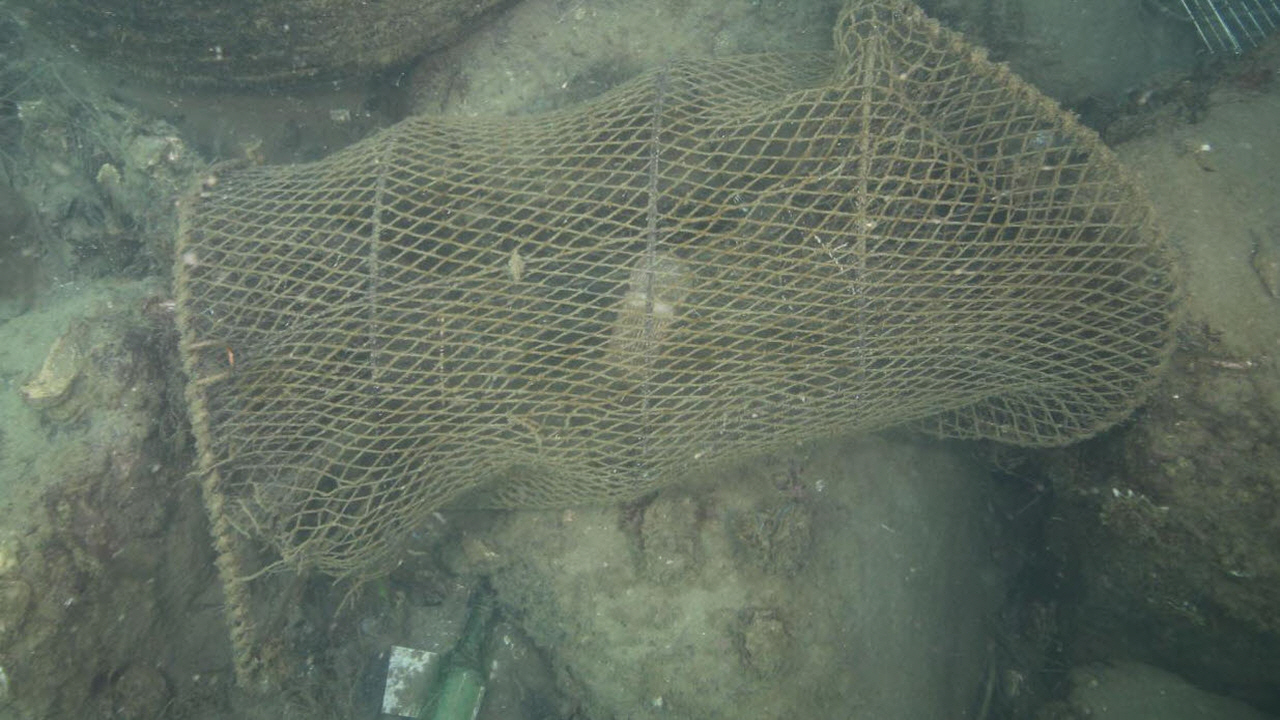spring fish trap: (170, 0, 1182, 692)
